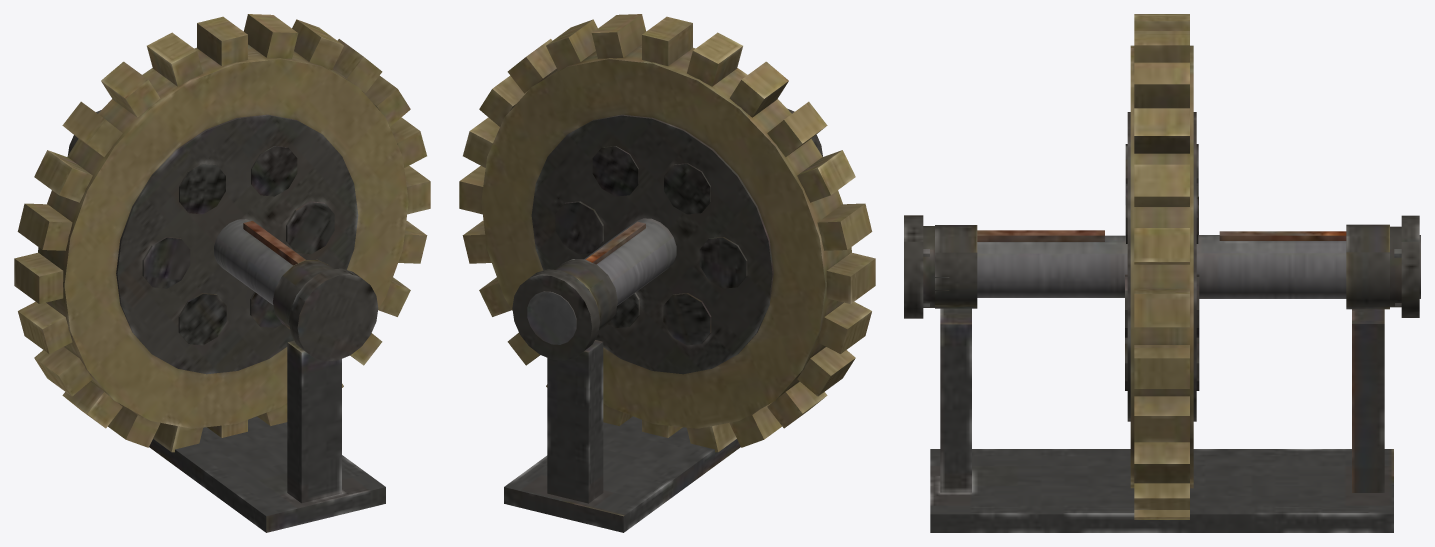
File: feCogwheel.glb
The picture shows the model from 3 angles, left to right: view 1: azimuth 30°, elevation 25°; view 2: azimuth 150°, elevation 25°; view 3: azimuth 270°, elevation 25°; orthographic projection. The views are drawn at different scales.
Parts seen in each view (by area): view 1: FeSpin_Cog, feCogwheel_Base; view 2: FeSpin_Cog, feCogwheel_Base; view 3: FeSpin_Cog, feCogwheel_Base.
Part boxes in pixels (x1,y1,x2,y2): FeSpin_Cog: (14, 14, 430, 452); feCogwheel_Base: (149, 259, 385, 532); FeSpin_Cog: (459, 14, 875, 452); feCogwheel_Base: (504, 259, 740, 532); FeSpin_Cog: (904, 14, 1420, 519); feCogwheel_Base: (930, 224, 1393, 532).
Bounding box in the file's own units: 0.98 × 0.9918 × 1.
1 material, 1 textured.
